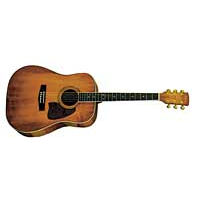guitar: (4, 64, 193, 139)
